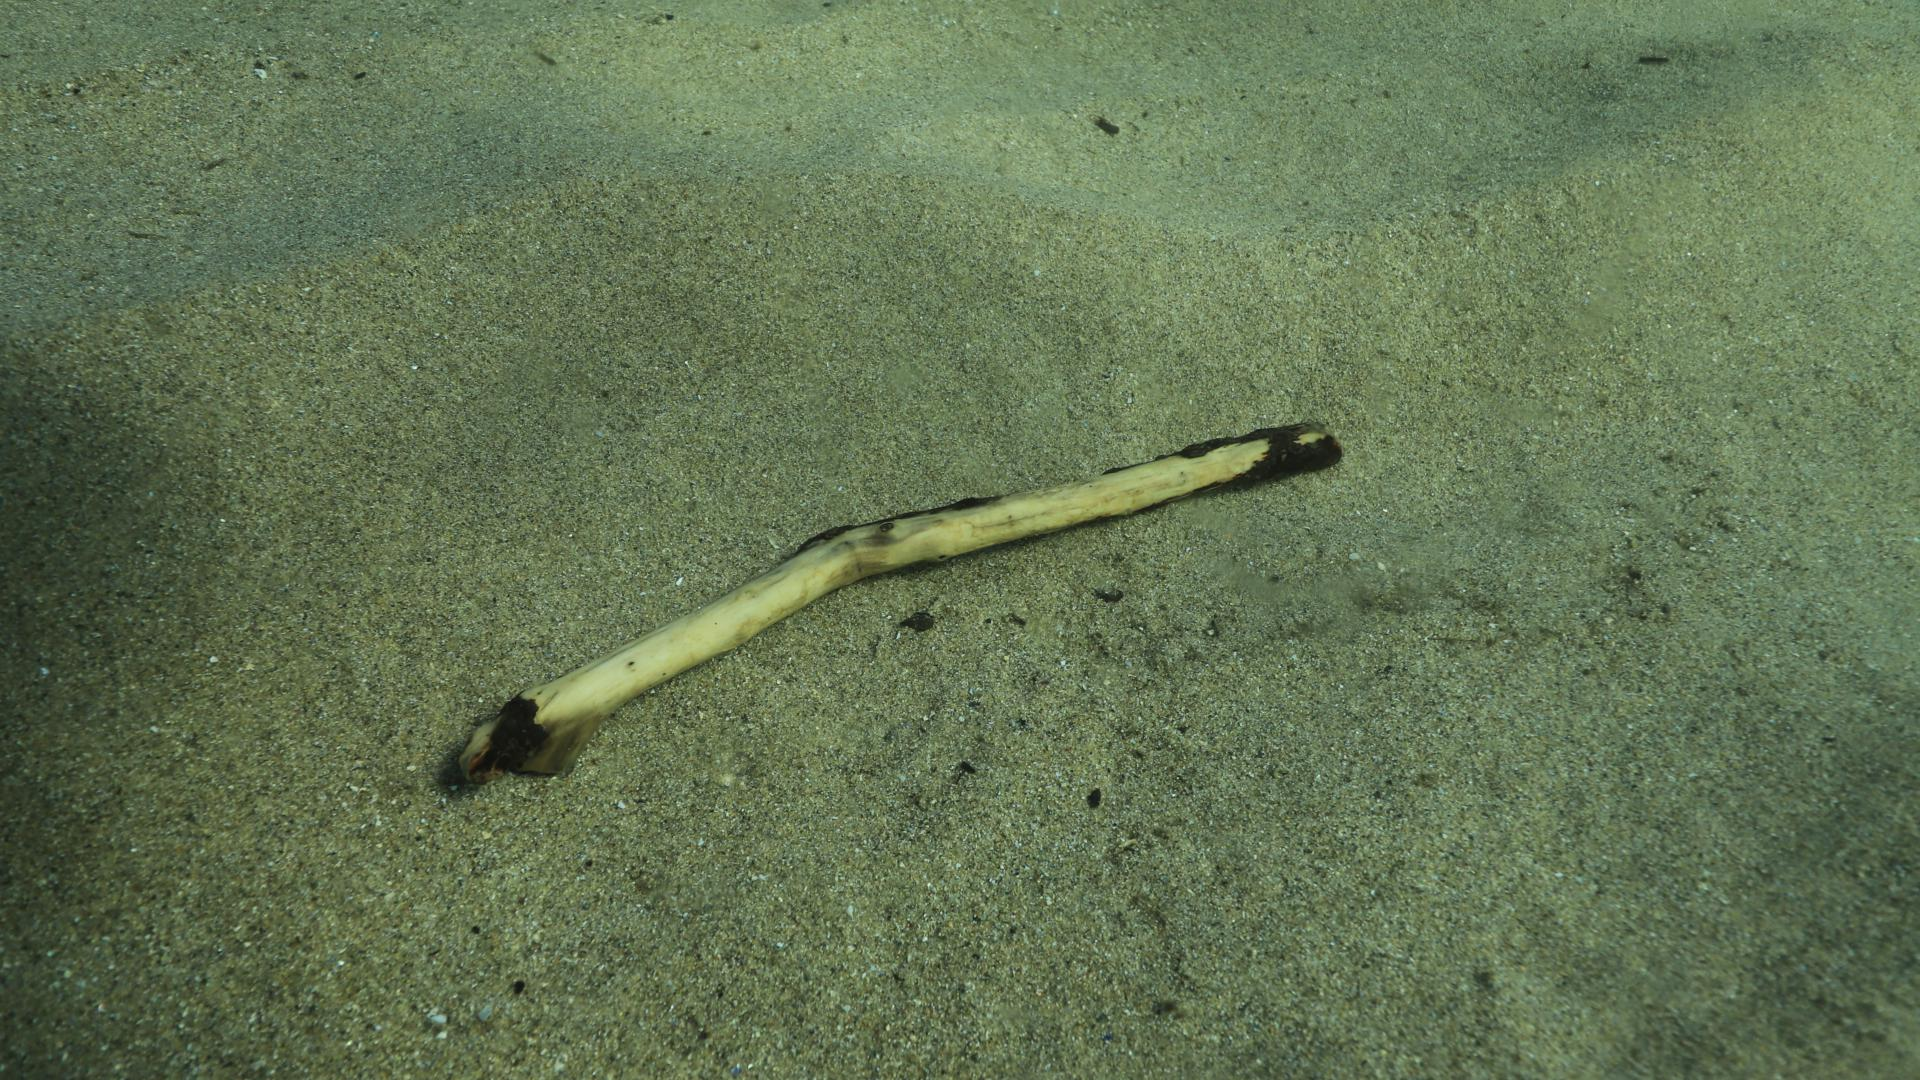wood: (451, 417, 1340, 790)
